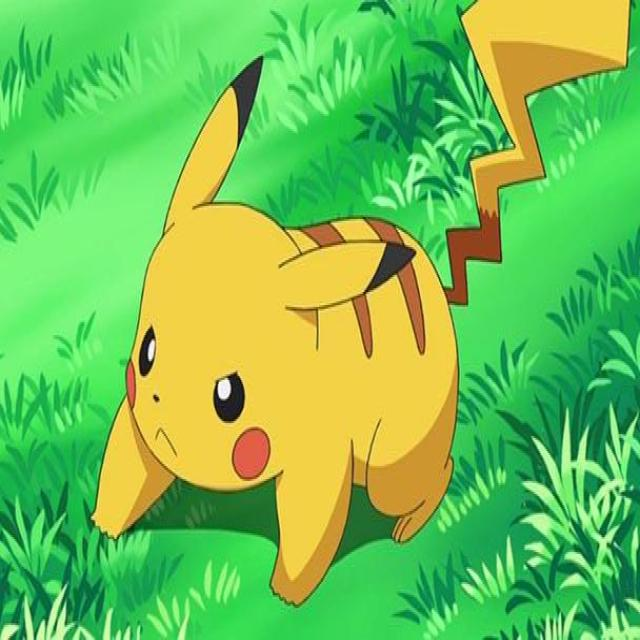pikachu: (90, 0, 631, 606)
